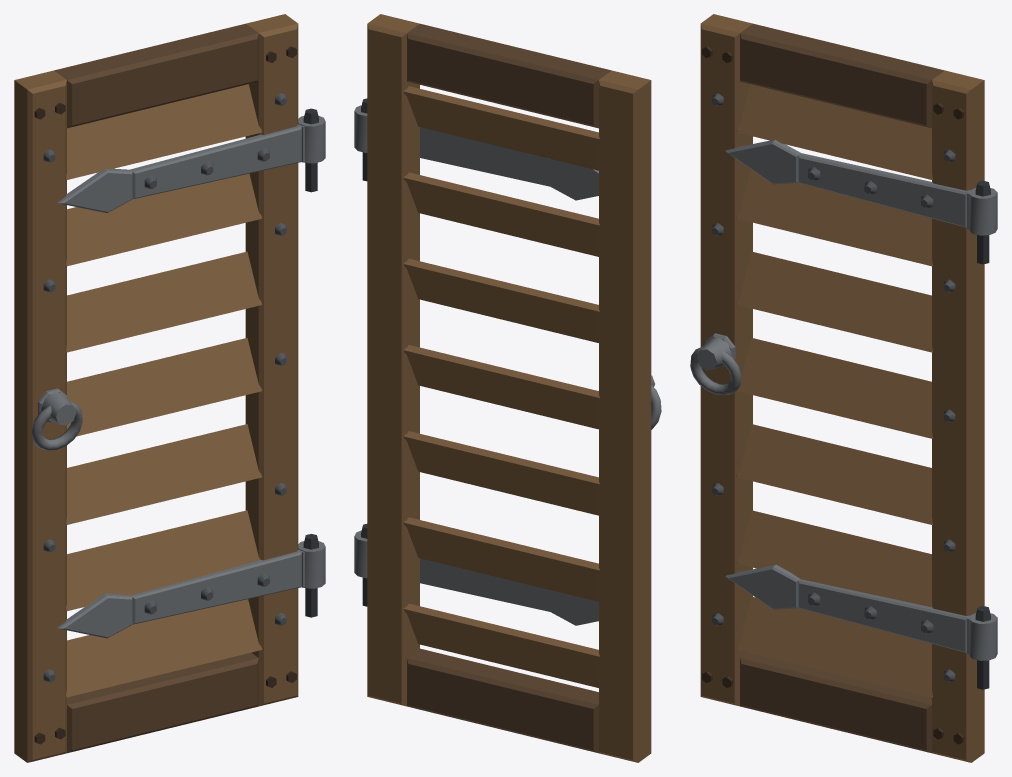
The model's file is SM_LPD_Door_ShutterLouvre_01.fbx.
The picture shows the model from 3 angles, left to right: view 1: azimuth 30°, elevation 25°; view 2: azimuth 150°, elevation 25°; view 3: azimuth 330°, elevation 25°; orthographic projection.
Parts seen in each view (by area): view 1: SM_LPD_Door_ShutterLouvre_01; view 2: SM_LPD_Door_ShutterLouvre_01; view 3: SM_LPD_Door_ShutterLouvre_01.
Boxes of the visible parts, bbox=[...] form: SM_LPD_Door_ShutterLouvre_01: bbox=[14, 14, 325, 762]; SM_LPD_Door_ShutterLouvre_01: bbox=[354, 14, 661, 762]; SM_LPD_Door_ShutterLouvre_01: bbox=[690, 14, 997, 762].
Size of the model in its own units: 0.529 by 1.14 by 0.096.
